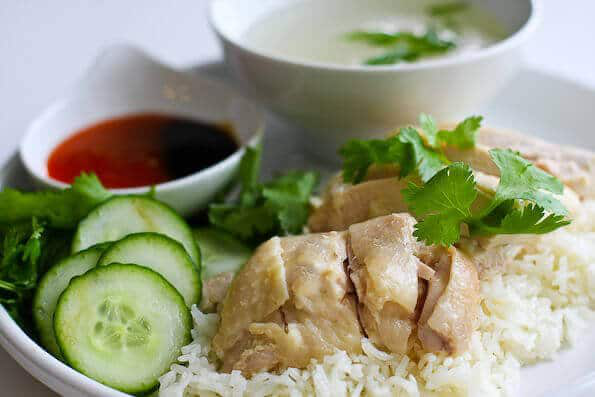Steamed Chicken Rice: (215, 130, 593, 386)
